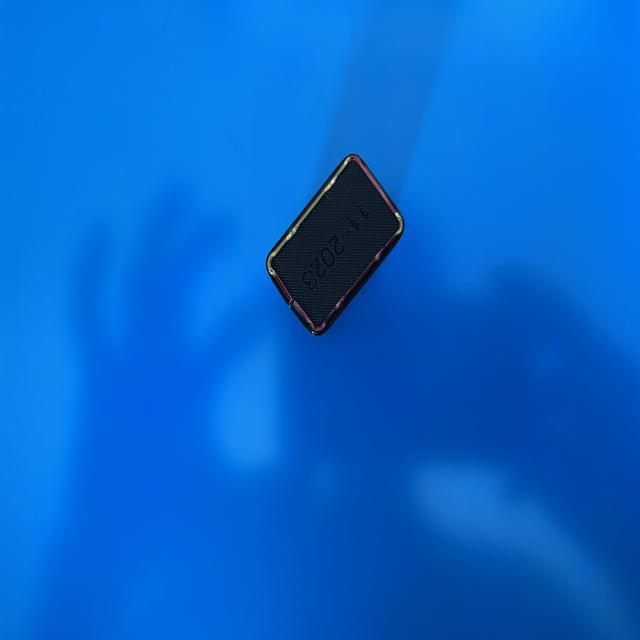9V: (265, 152, 408, 336)
